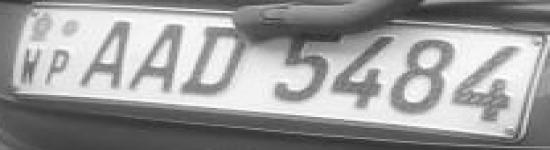4: (456, 40, 528, 126), (332, 33, 395, 113)
5: (274, 32, 343, 108)
8: (392, 34, 457, 116)
A: (131, 20, 184, 94), (78, 18, 132, 89)
D: (184, 21, 247, 96)
P: (45, 47, 73, 87)
W: (19, 47, 44, 85)
